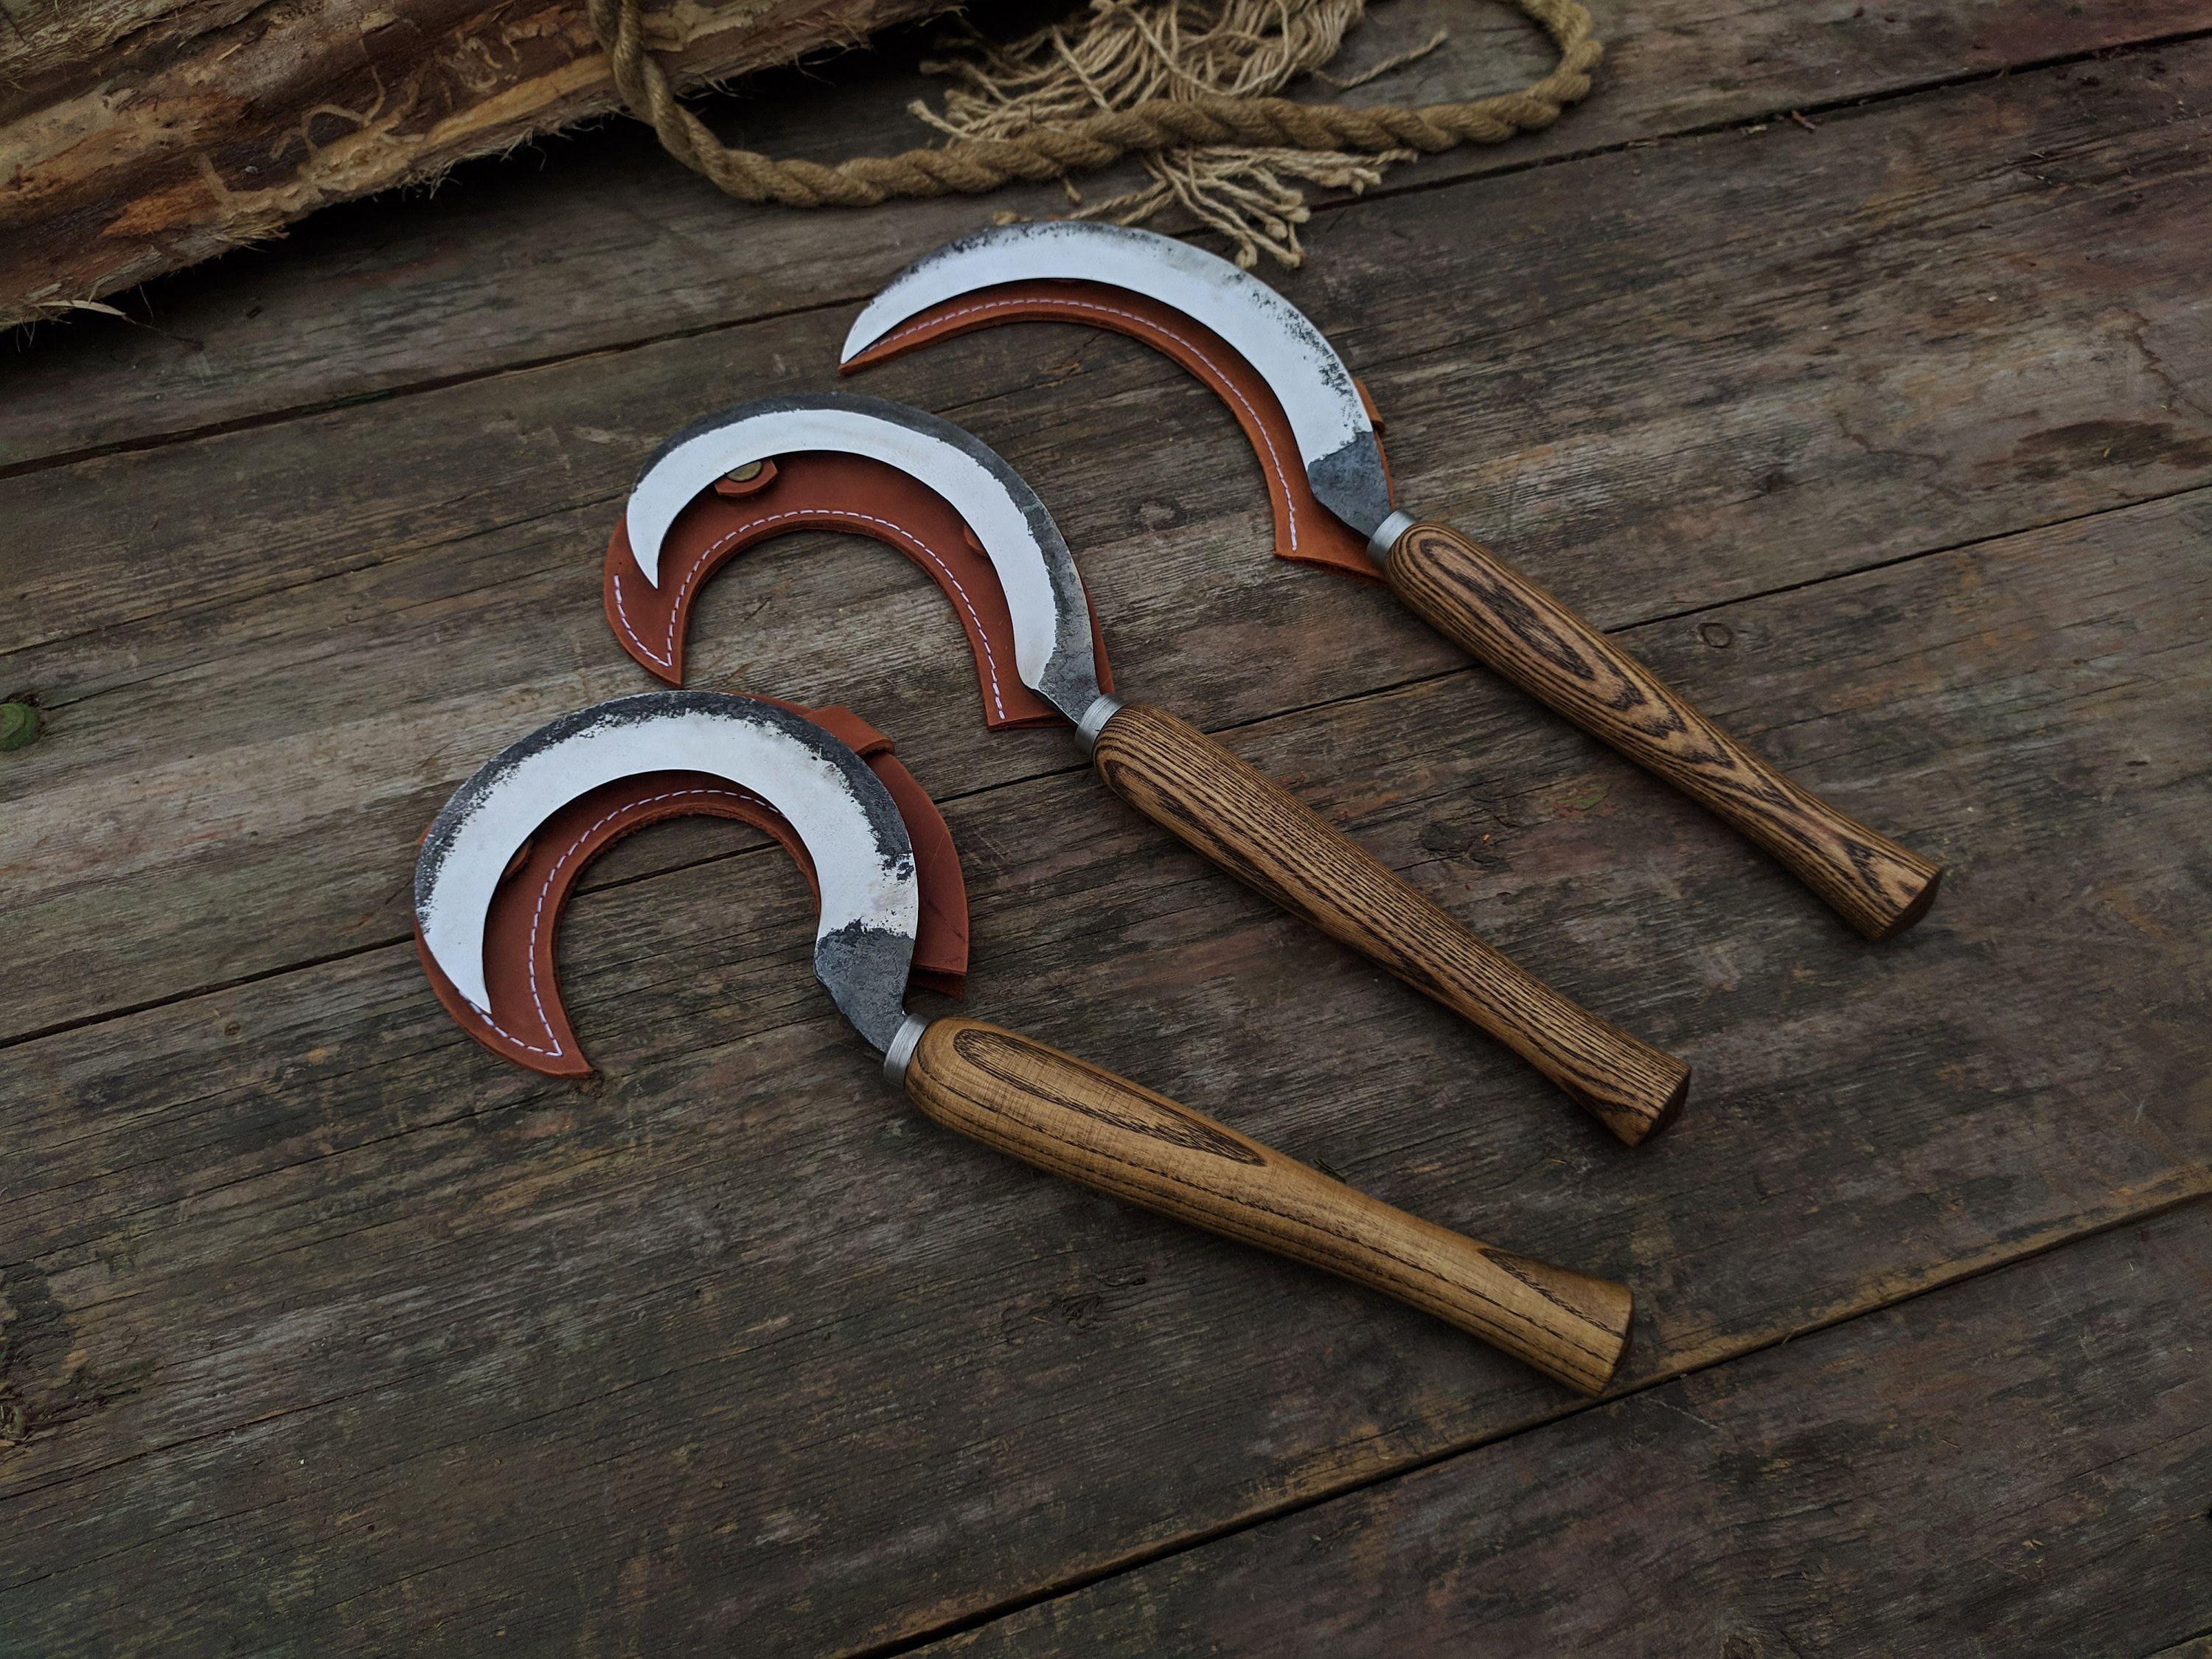foice: (430, 708, 1648, 1408), (610, 383, 1681, 1162), (859, 202, 1926, 974)
